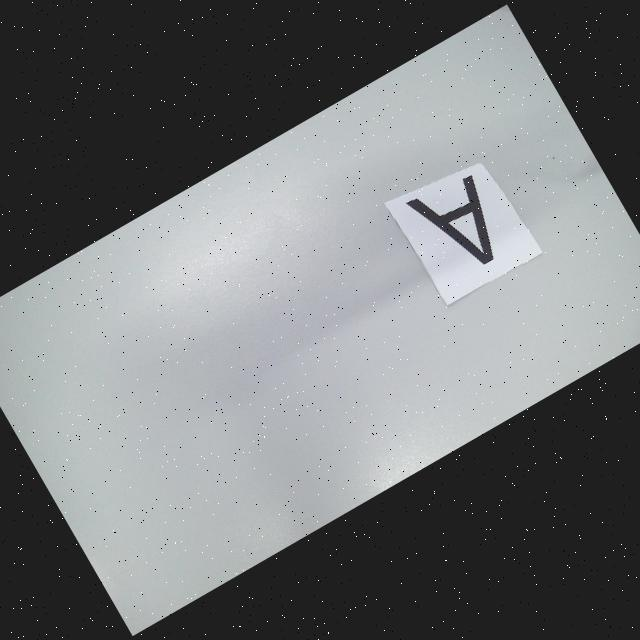FAKE: (406, 166, 514, 284)
